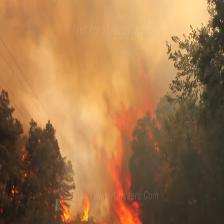fire: (34, 163, 168, 224)
smoke: (1, 1, 181, 199)
